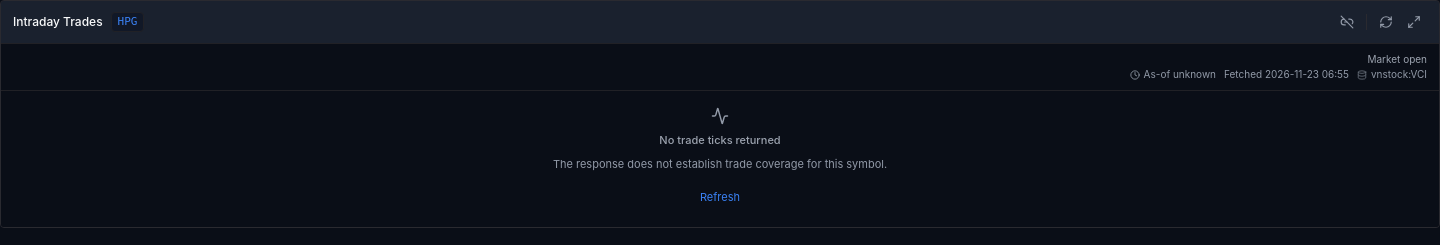
it: requires positive coverage evidence to call a window zero trades
Expected: the text "No trade ticks returned" is shown, top-left (659, 133), bottom-right (781, 148)
Expected: the text "does not establish trade coverage" is shown, top-left (553, 157), bottom-right (887, 171)
Click the button titled "Refresh" at (1386, 22), box top-left (1373, 9), bottom-right (1399, 35)
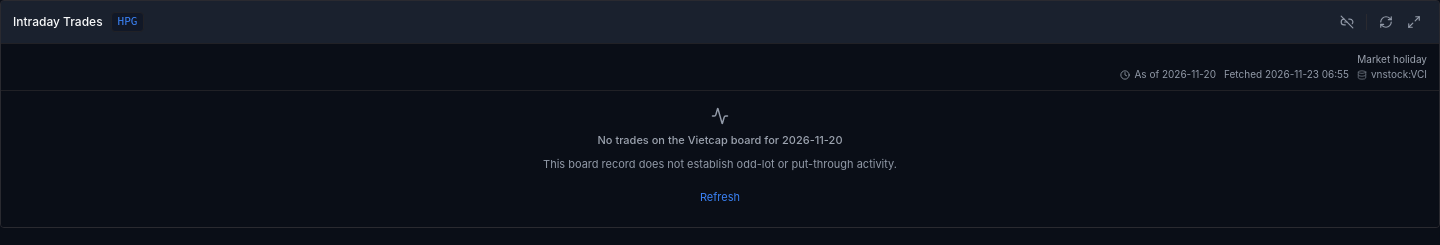
Result: the text "No trades on the Vietcap board for 2026-11-20" is shown at top-left (598, 133), bottom-right (842, 148)
Result: the text "Market holiday" is shown at top-left (1357, 53), bottom-right (1427, 65)
